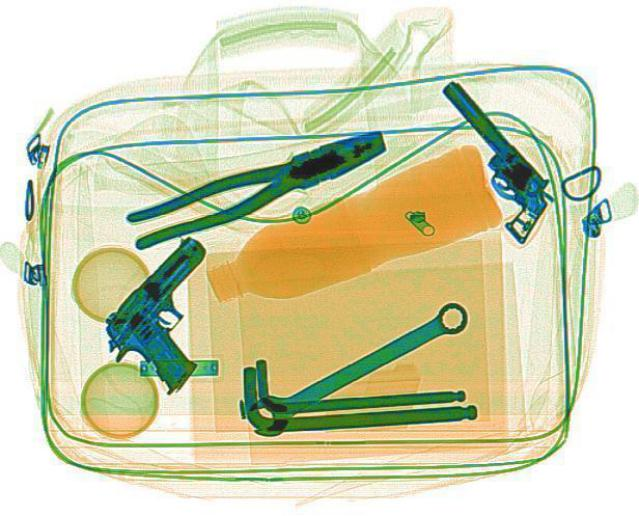Gun: (75, 231, 282, 394), (405, 72, 579, 245)
Pliers: (111, 123, 398, 250)
Wrench: (235, 293, 482, 440)
